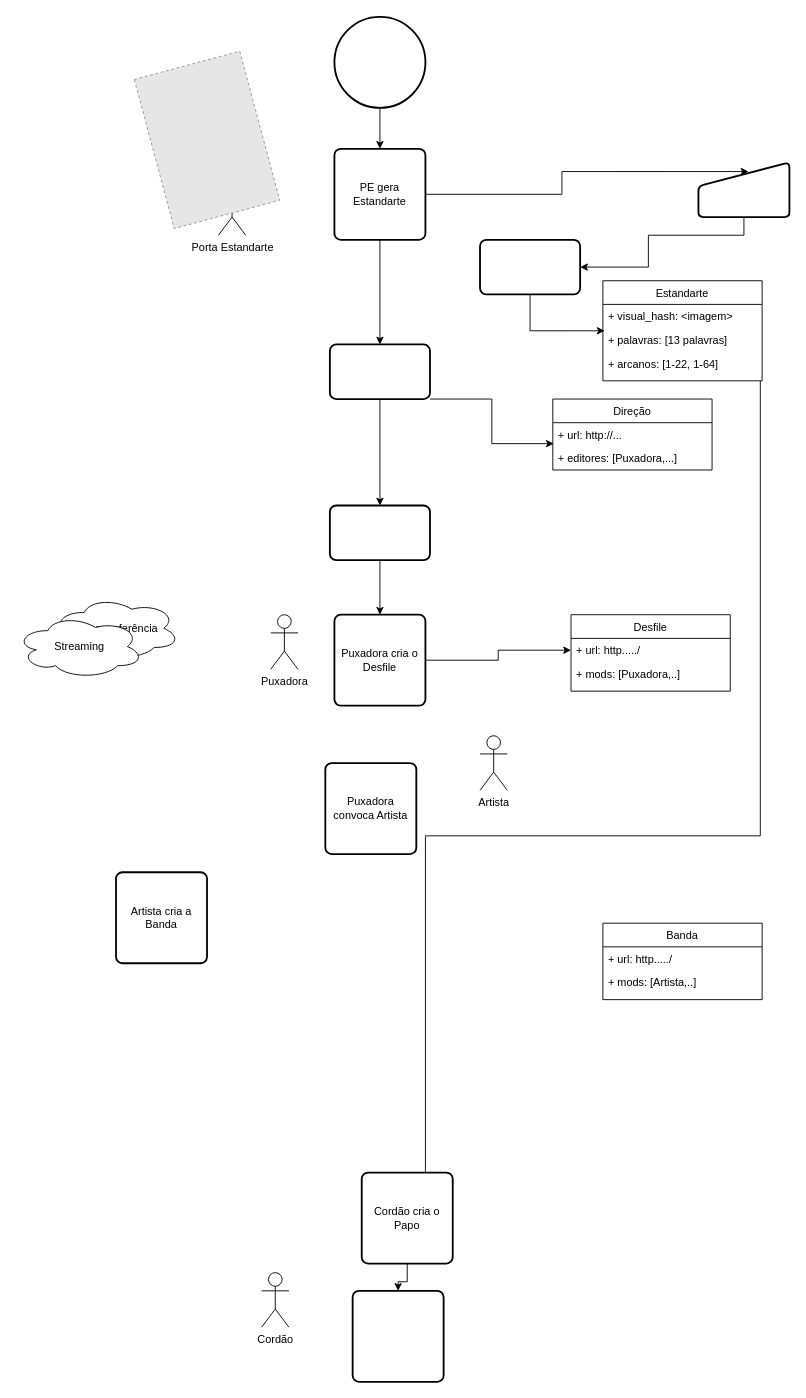
This 806x1398 diagram has some shape labels left out. Grey dashed boxes stand in for pictures. The centre of each missing label's shape, as x and y in pixels:
Blouco: pixel 379 61
Bota na Rua: pixel 397 1335
hash_folia: pixel 530 266
PE convoca Puxadora: pixel 379 532
PE cria Direção: pixel 379 371
Semente: pixel 743 189
